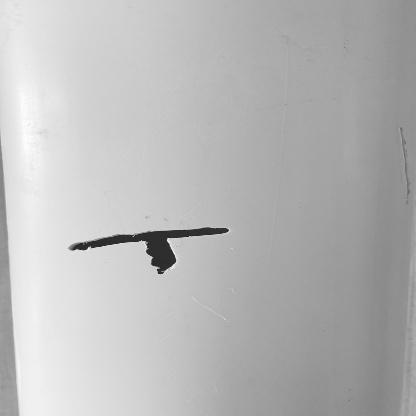fengxi: (66, 226, 234, 251)
kongdong: (141, 242, 174, 275)
sunshang: (394, 126, 412, 207)
